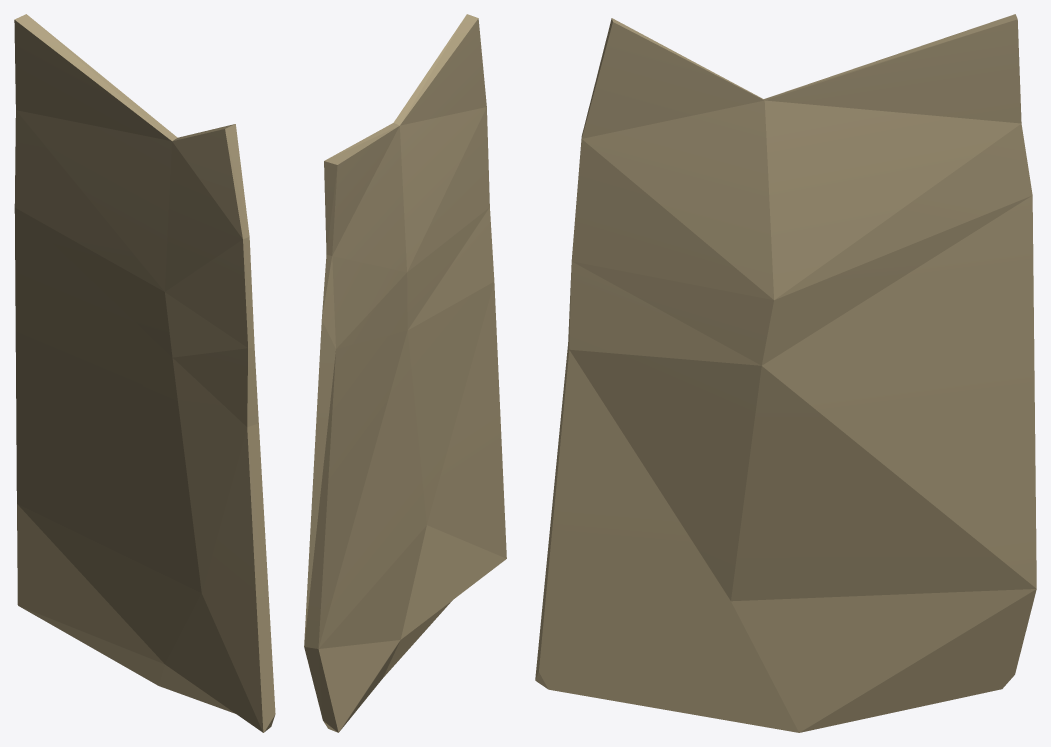
The model's file is Cloth_Grey.fbx.
3 views of the same model, side by side, from view 1: azimuth 30°, elevation 25°; view 2: azimuth 150°, elevation 25°; view 3: azimuth 270°, elevation 25° (orthographic). The views are drawn at different scales.
Parts seen in each view (by area): view 1: Cloth_Grey; view 2: Cloth_Grey; view 3: Cloth_Grey.
Part boxes in pixels (<box>): Cloth_Grey: <box>14,14,275,732</box>; Cloth_Grey: <box>304,14,506,732</box>; Cloth_Grey: <box>535,14,1036,732</box>.
Size of the model in its own units: 0.0743 by 0.5675 by 0.3641.
Materials: 1 (1 with a texture image).
